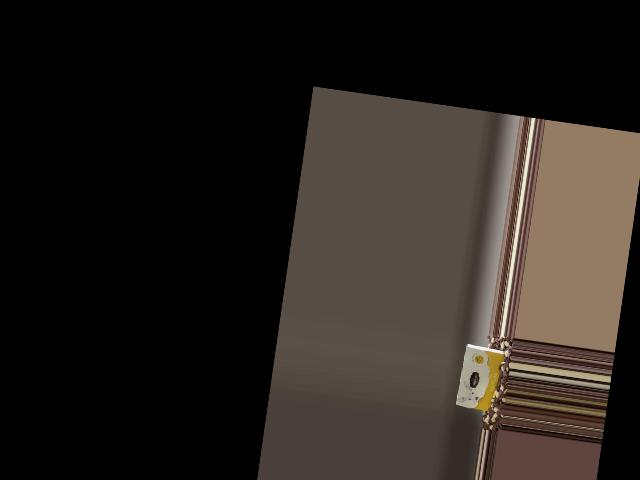chocolate: (452, 340, 507, 416)
